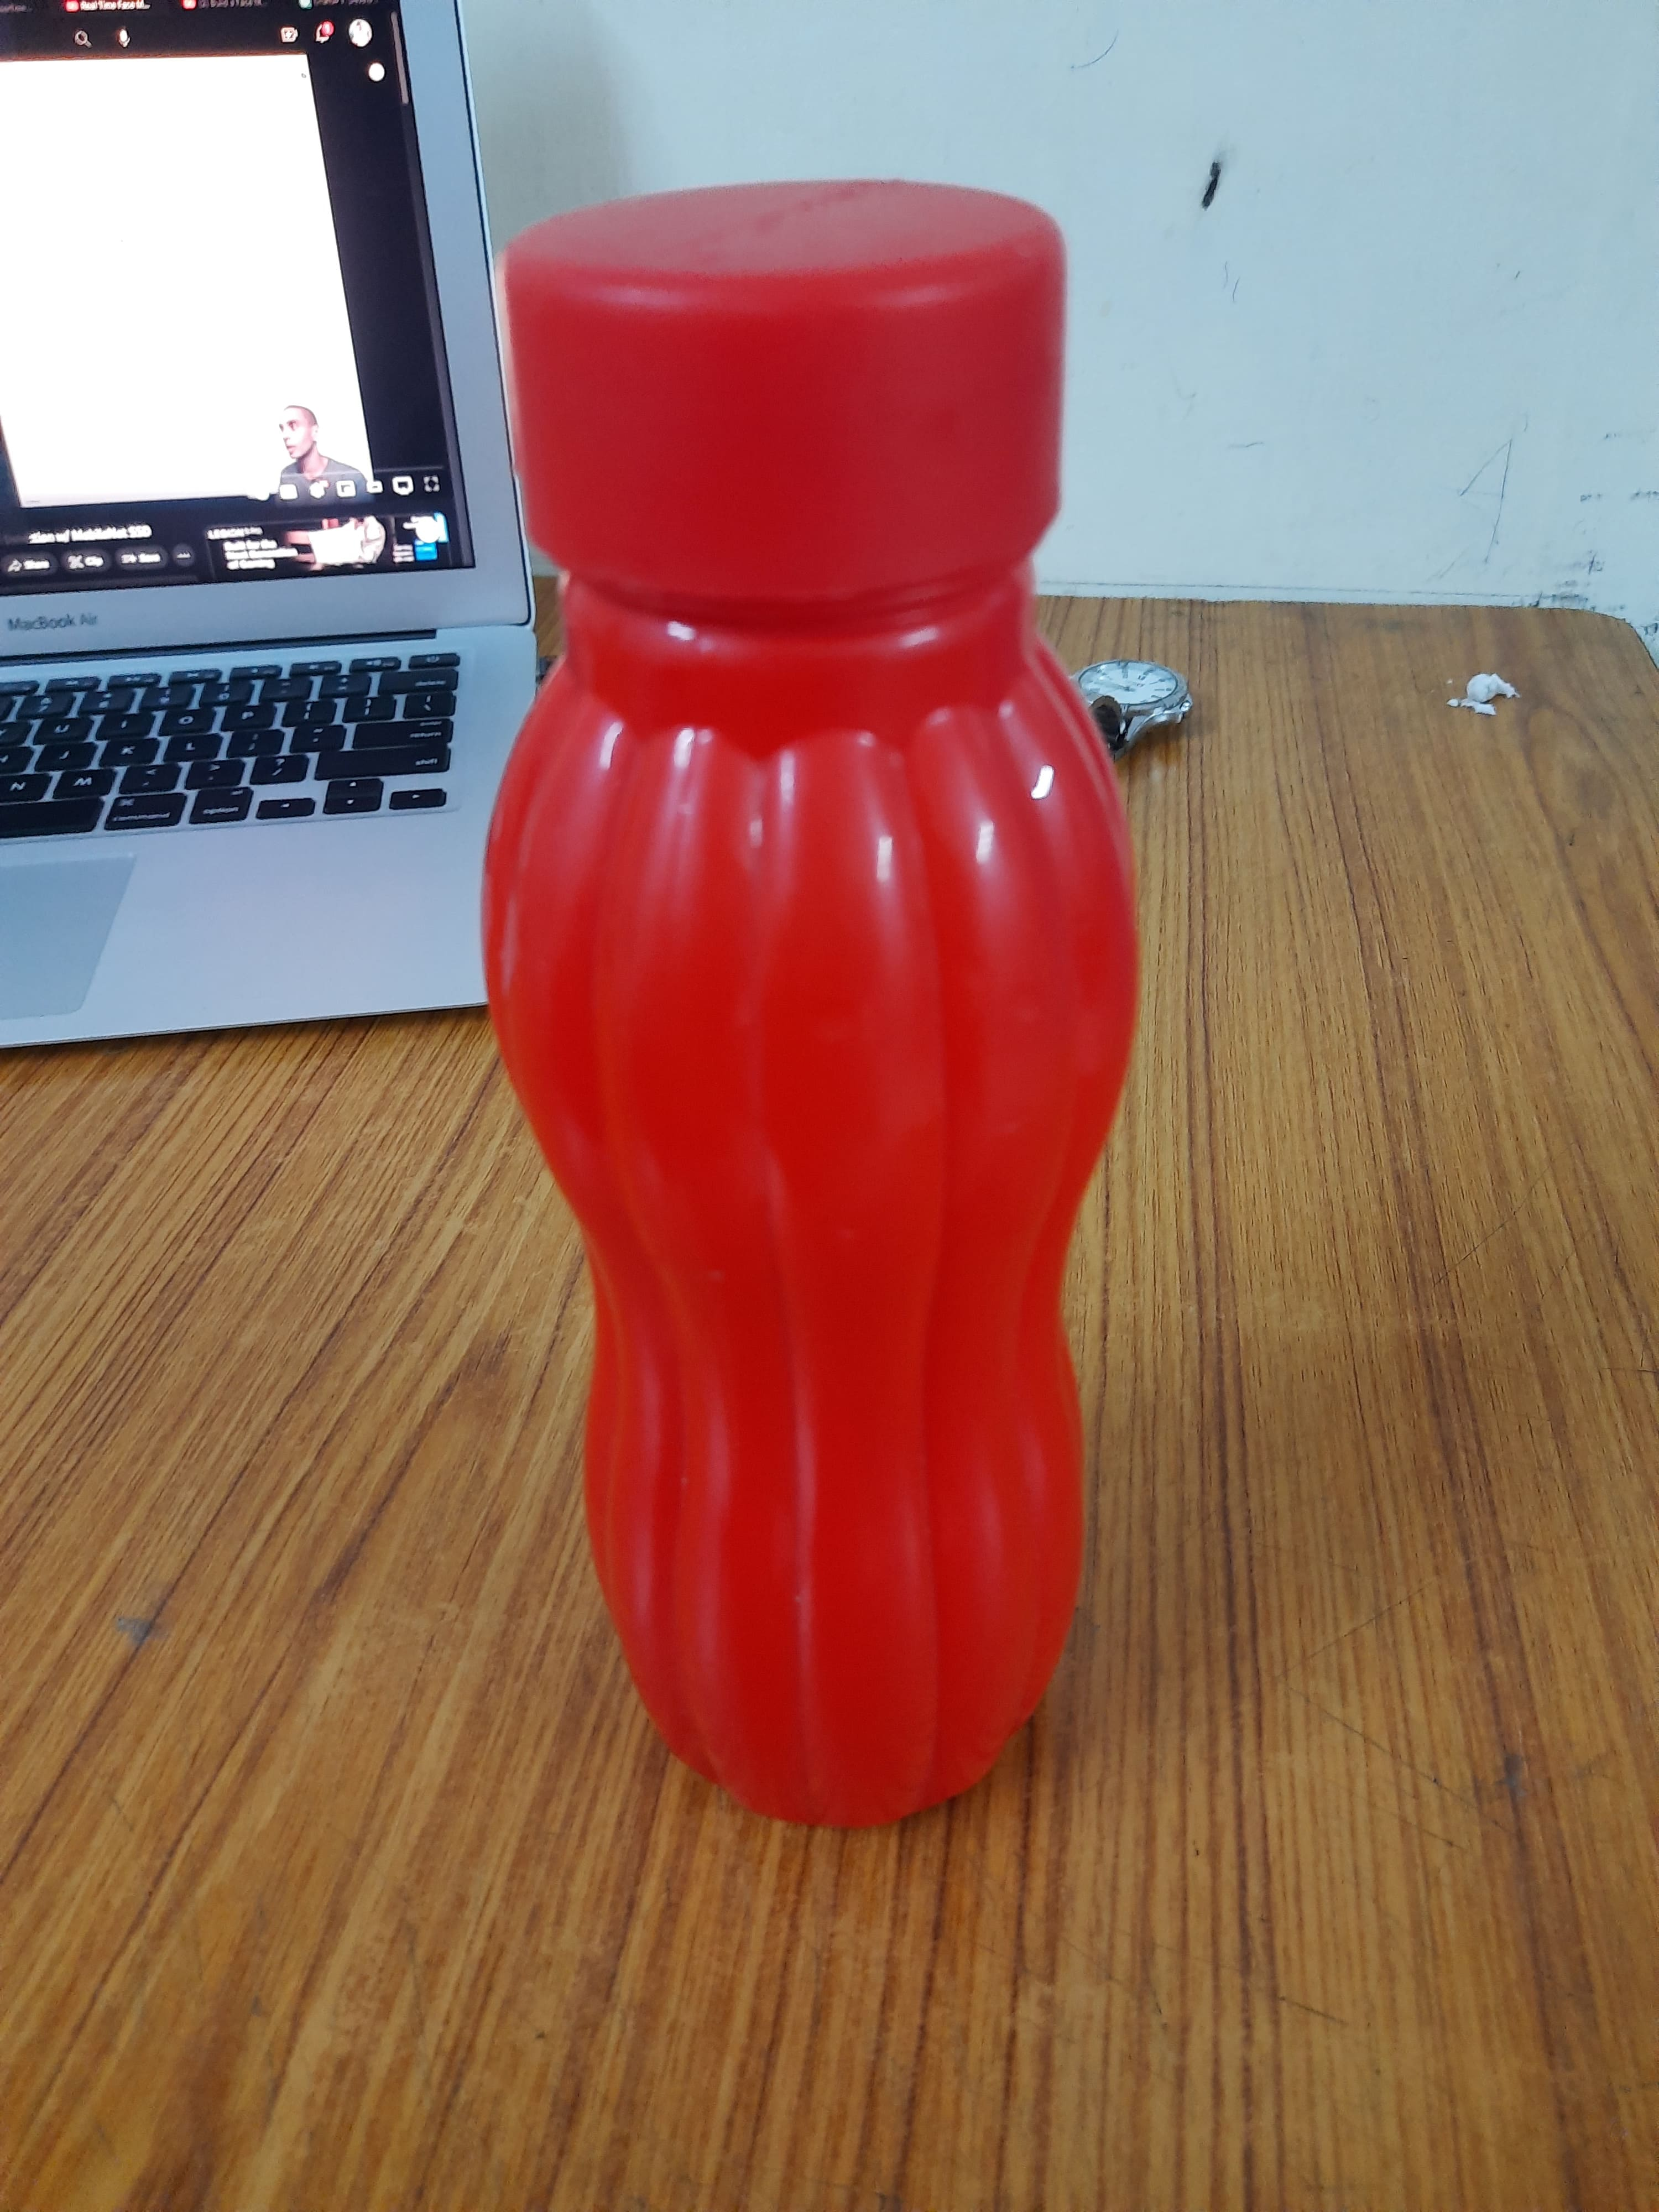Vikash's Water Bottle: (469, 179, 1126, 1841)
